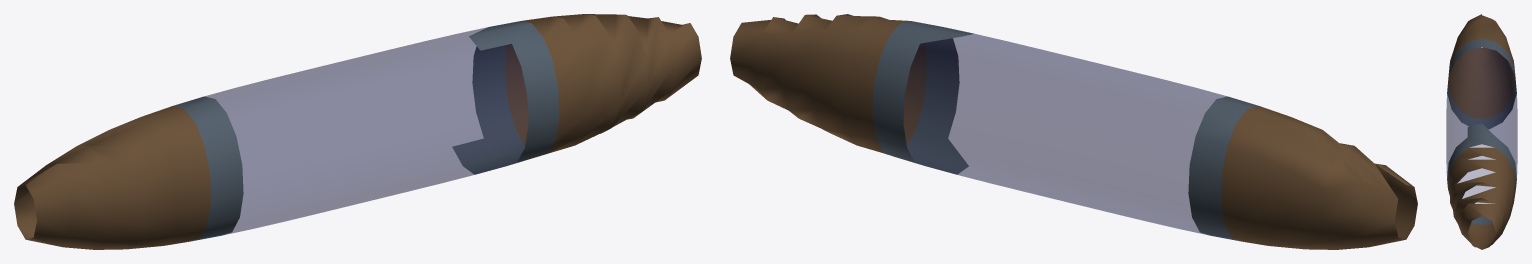
File: ftl_hull_full.obj
The picture shows the model from 3 angles, left to right: view 1: azimuth 30°, elevation 25°; view 2: azimuth 150°, elevation 25°; view 3: azimuth 270°, elevation 25°; orthographic projection. The views are drawn at different scales.
Bounding box in the file's own units: 280 × 54.4 × 41.77.
